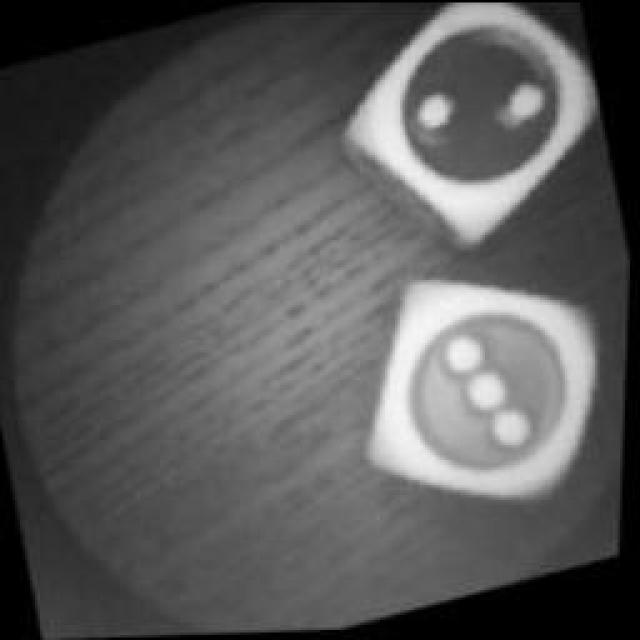dice_2: (320, 0, 625, 265)
dice_3: (336, 238, 632, 532)
